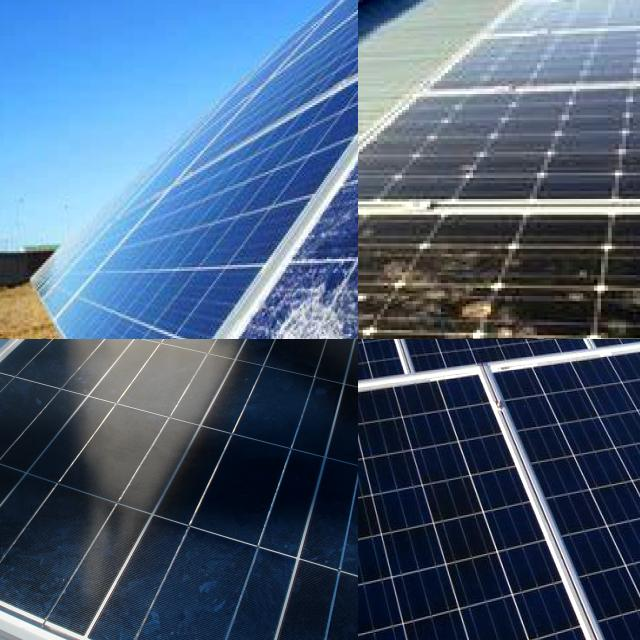bird: (378, 250, 447, 286), (358, 301, 413, 339), (454, 294, 512, 320)
crack: (0, 339, 358, 640), (358, 360, 640, 640), (486, 363, 640, 640), (364, 339, 604, 417), (522, 339, 640, 419), (358, 339, 439, 416)
hotspot: (185, 274, 358, 339)
